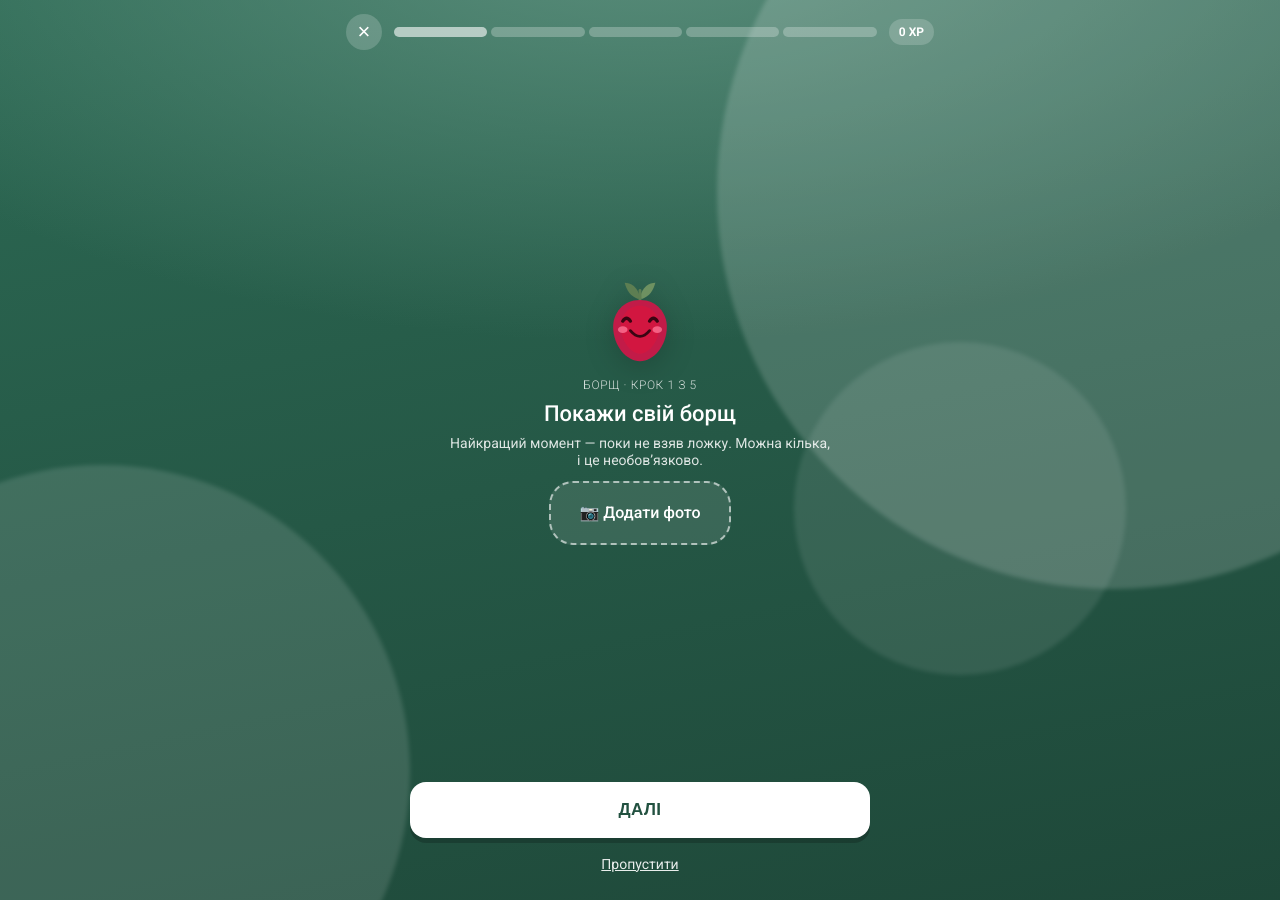
Scenario: the photo is asked for while there is still a borsch to photograph › is still skippable — nobody is blocked by not having a photo
Click the button "Пропустити" at (640, 864), box left=589, top=842, right=691, bottom=886
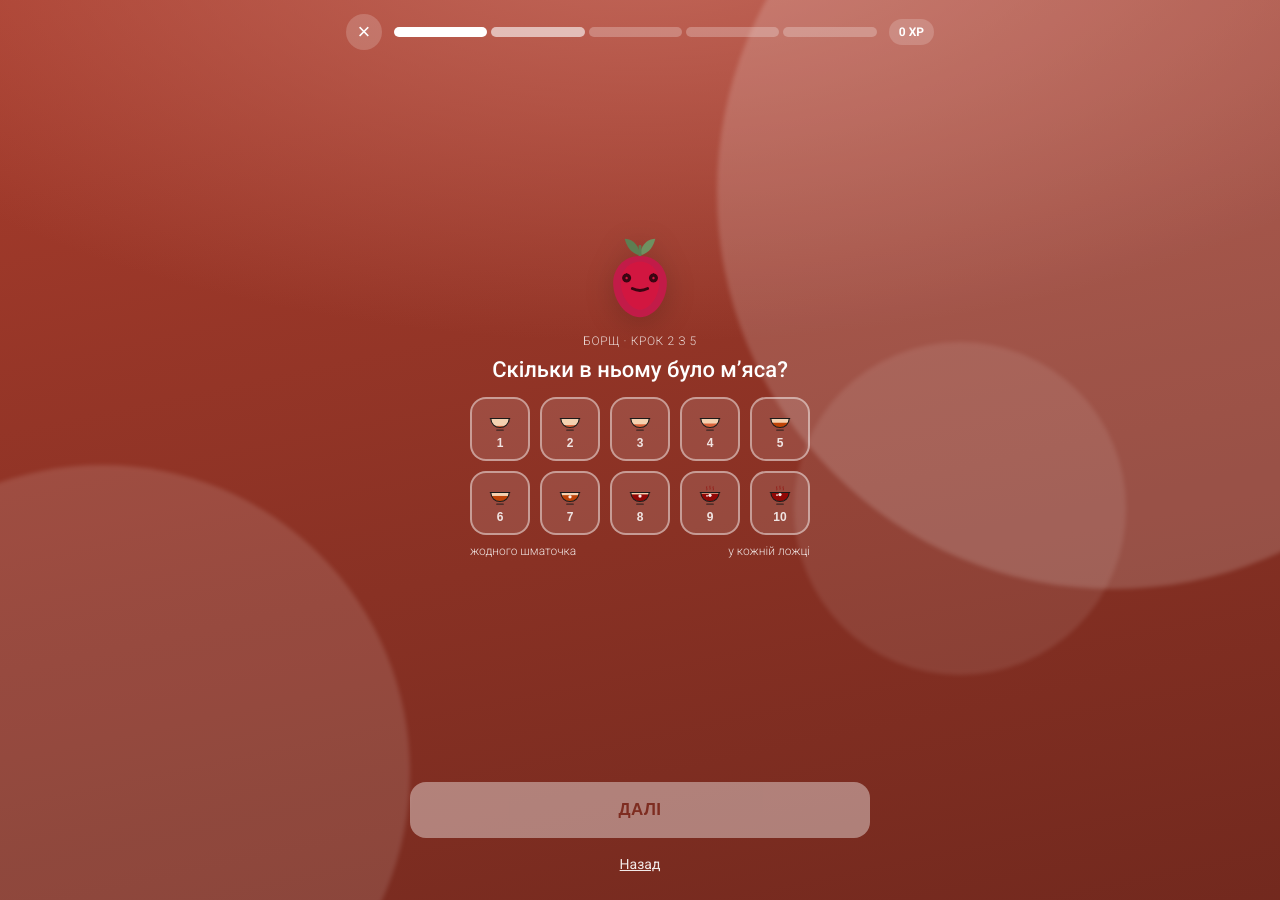
Result: the heading "Скільки в ньому було мʼяса?" is shown at left=492, top=357, right=788, bottom=383
